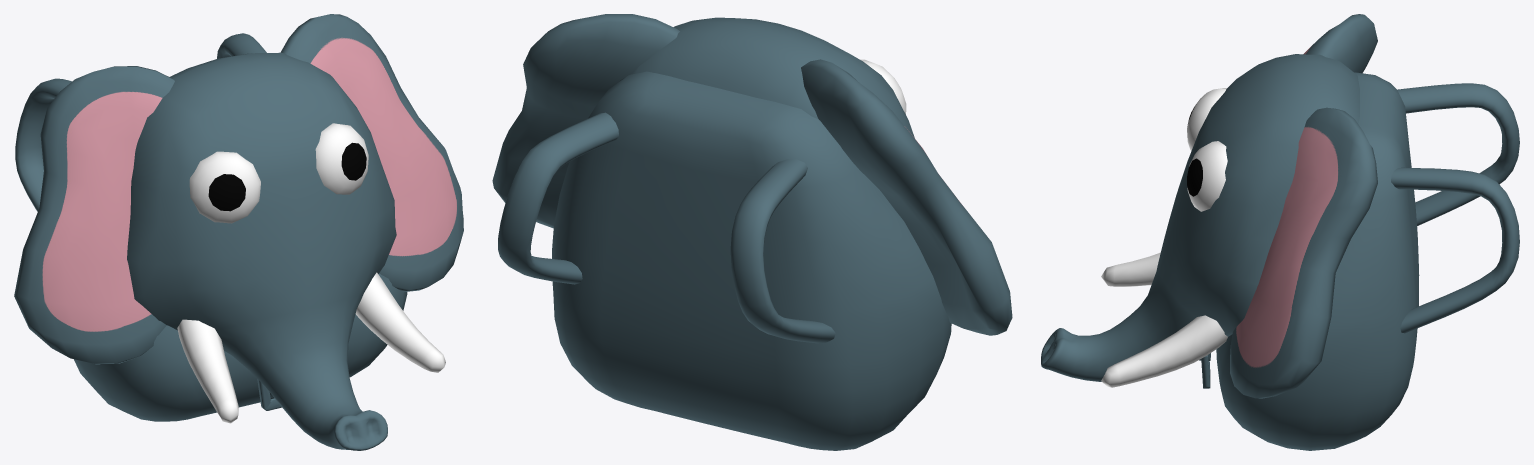
The model's file is Balo_voi.fbx.
3 renders of one model, left to right at view 1: azimuth 30°, elevation 25°; view 2: azimuth 150°, elevation 25°; view 3: azimuth 270°, elevation 25°, orthographic. The views are drawn at different scales.
Parts seen in each view (by area): view 1: Balo; view 2: Balo; view 3: Balo.
Part boxes in pixels (x1,y1,x2,y2): Balo: (14, 14, 463, 450); Balo: (492, 14, 1012, 450); Balo: (1041, 14, 1519, 450).
Size of the model in its own units: 172 by 127 by 161.
